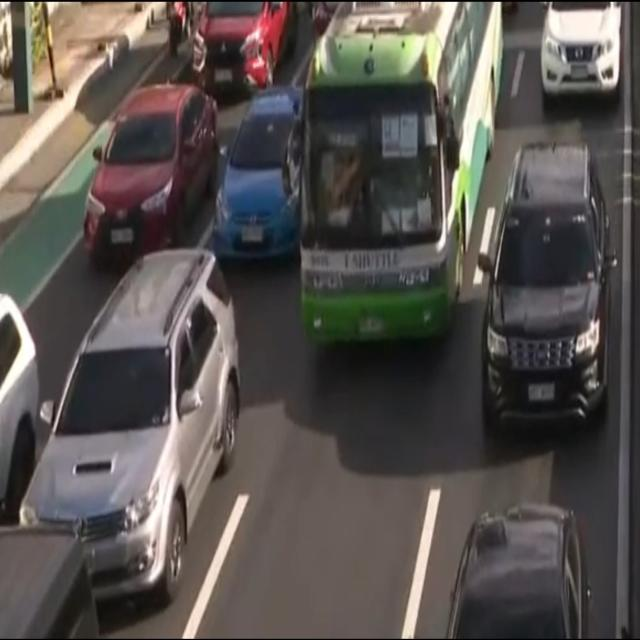Bus: (299, 2, 503, 331)
SUV: (18, 252, 239, 603), (483, 140, 612, 435), (191, 0, 296, 95), (538, 0, 622, 101)
Sedan: (437, 492, 593, 640), (82, 84, 216, 250), (214, 93, 308, 255)
